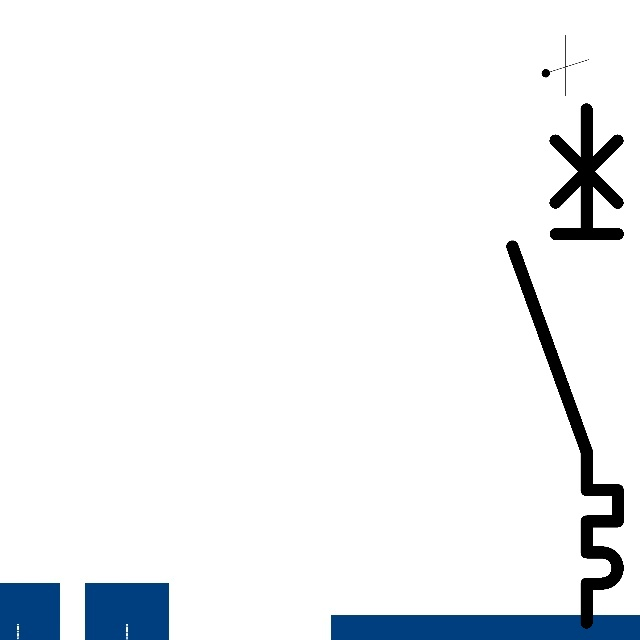interruptor_termomagnetico: (499, 96, 631, 636)
